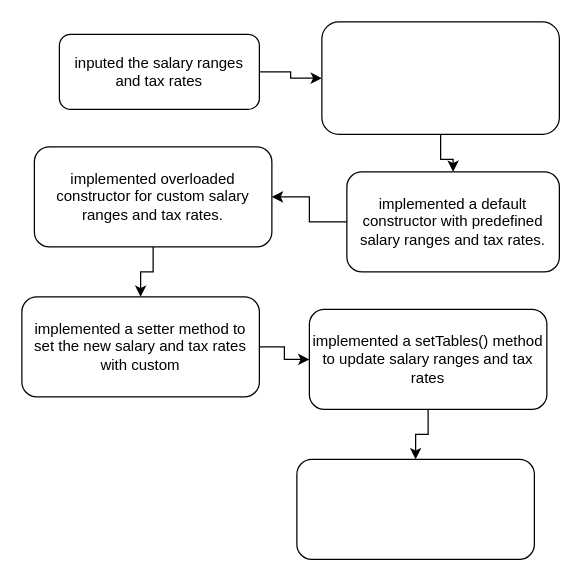
The diagram is 581 pixels wide and 581 high, and some of its shapes have lost their labels. The box of each missing label's shape, as (x1, y1, x2, y2) in pixels:
define how t store these inputs using arrays (search and values): (321, 21, 559, 134)
implemented getValue() to retrieve correct tax rate based on salary argument: (296, 458, 534, 559)
